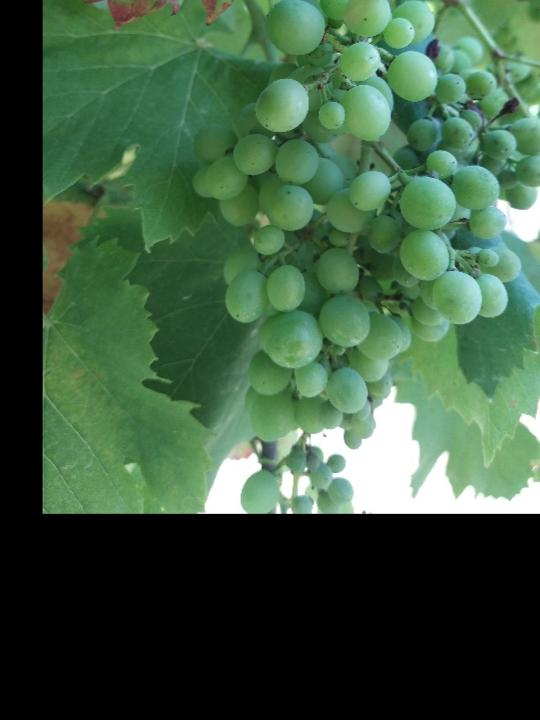grape: (192, 0, 540, 455)
